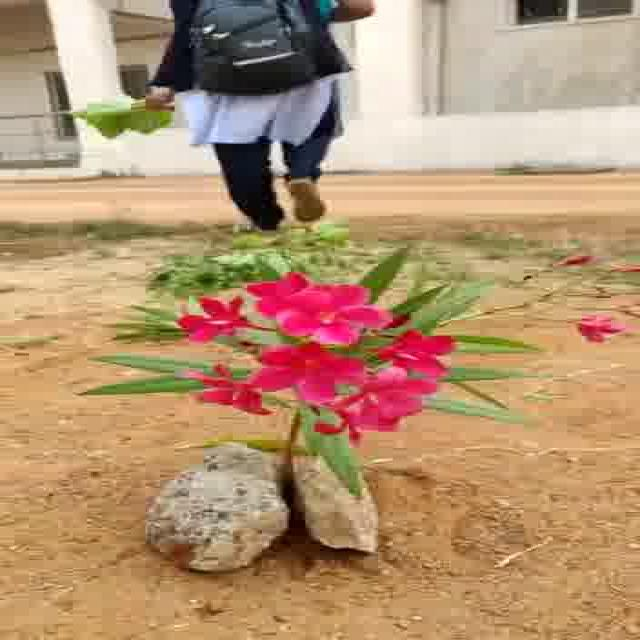Oleander: (82, 233, 536, 446)
